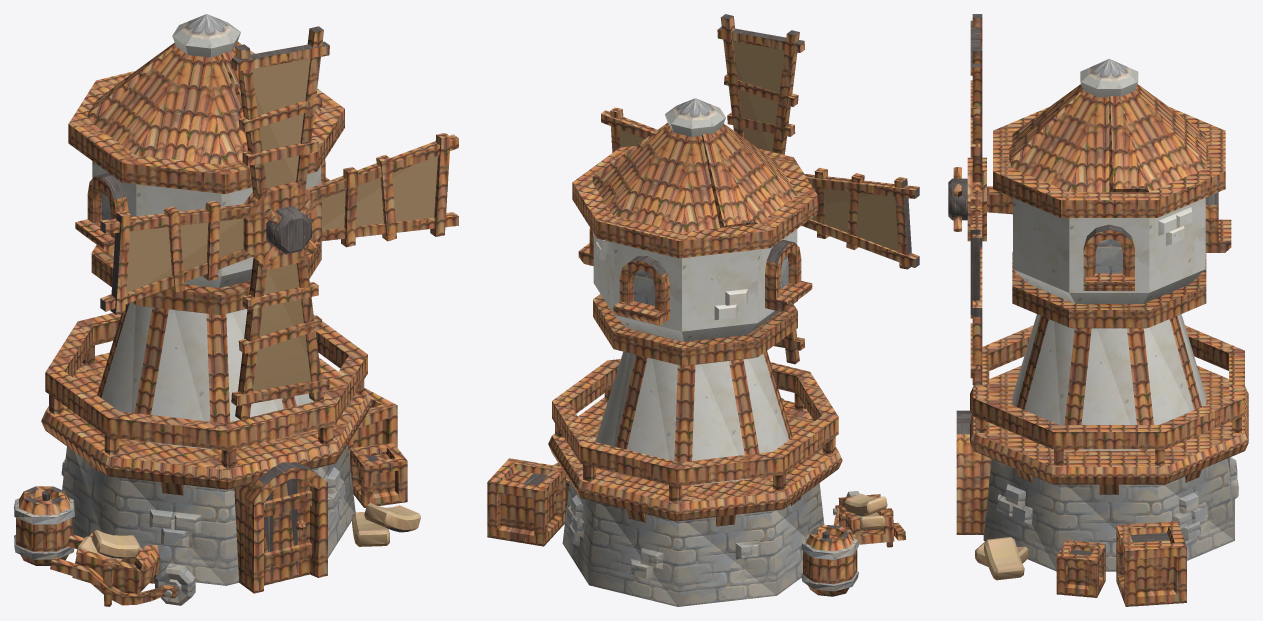
Rendered from building_windmill_red.gltf.
3 renders of one model, left to right at view 1: azimuth 30°, elevation 25°; view 2: azimuth 150°, elevation 25°; view 3: azimuth 270°, elevation 25°, orthographic. The views are drawn at different scales.
Parts seen in each view (by area): view 1: building_windmill_red, building_windmill_top_fan_red, building_windmill_top_red; view 2: building_windmill_red, building_windmill_top_red, building_windmill_top_fan_red; view 3: building_windmill_red, building_windmill_top_red, building_windmill_top_fan_red.
Part boxes in pixels (x1,y1,x2,y2): building_windmill_red: (14, 302, 420, 606); building_windmill_top_fan_red: (100, 26, 458, 419); building_windmill_top_red: (68, 14, 344, 314); building_windmill_red: (487, 351, 905, 606); building_windmill_top_red: (572, 98, 818, 365); building_windmill_top_fan_red: (601, 14, 919, 364); building_windmill_red: (956, 314, 1248, 606); building_windmill_top_red: (987, 58, 1231, 328); building_windmill_top_fan_red: (948, 14, 986, 384).
Size of the model in its own units: 1.13 by 1.46 by 0.8165.
12 materials, 4 textured.
